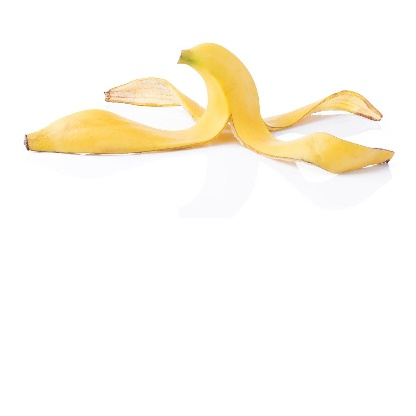chuoi: (24, 45, 398, 180)
